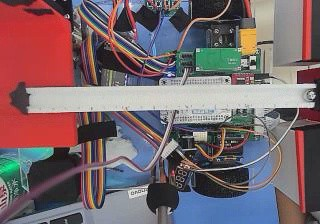ironball: (305, 90, 315, 100)
